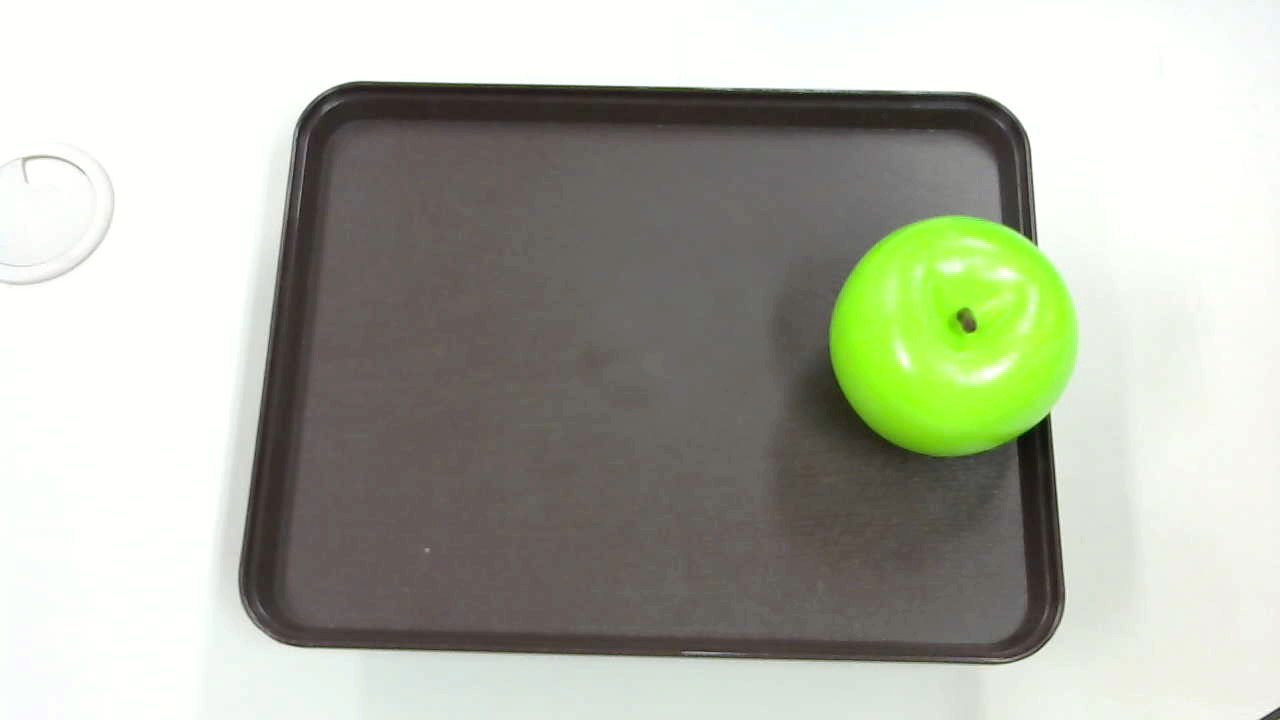green apple: (817, 213, 1090, 469)
